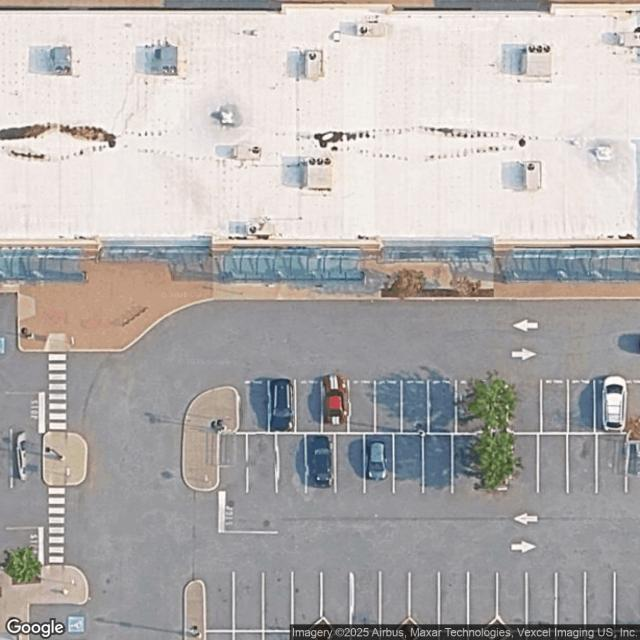car: (603, 375, 626, 430), (311, 436, 334, 487), (270, 381, 292, 432), (325, 374, 347, 424), (366, 442, 387, 483)
lot_boundary: (27, 296, 639, 639)
objects: (182, 387, 238, 492), (488, 380, 507, 491), (184, 582, 205, 639)
stall: (304, 432, 336, 492), (363, 433, 394, 493), (497, 569, 527, 631), (507, 380, 541, 434), (526, 572, 556, 632), (247, 433, 278, 491), (321, 573, 352, 631), (350, 574, 381, 632), (556, 570, 585, 632), (454, 433, 484, 492), (508, 432, 538, 491), (292, 573, 322, 632), (276, 433, 306, 491), (394, 433, 424, 491), (410, 571, 439, 631), (439, 572, 468, 632), (597, 434, 626, 493), (380, 572, 409, 631), (538, 435, 568, 492), (263, 574, 293, 631), (568, 434, 597, 492), (234, 573, 263, 631), (586, 571, 614, 631), (468, 573, 497, 630), (320, 379, 350, 434), (424, 434, 452, 492), (337, 434, 365, 491), (457, 380, 487, 432), (614, 571, 640, 631), (219, 432, 247, 487), (540, 380, 568, 434), (208, 573, 234, 631), (350, 378, 376, 433), (570, 379, 596, 433), (271, 380, 297, 433), (297, 380, 323, 432), (596, 380, 621, 433), (431, 380, 455, 434), (377, 382, 401, 433), (405, 382, 429, 433), (245, 380, 268, 432)
